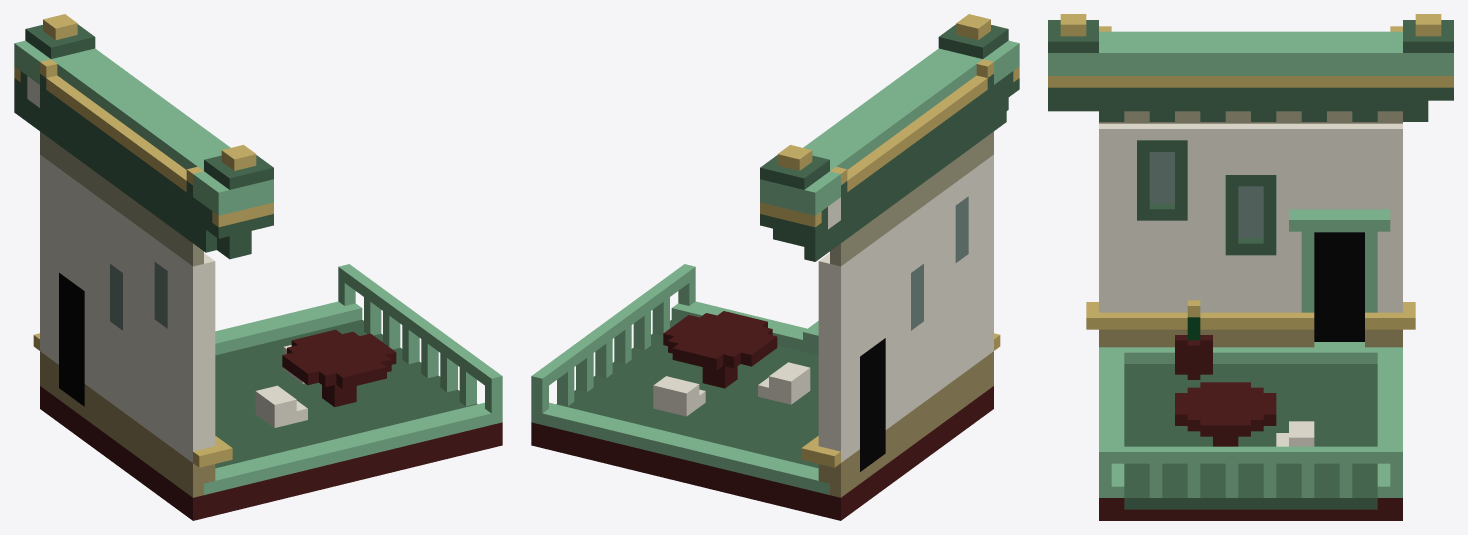
File: tile_3_left_fancy.obj
3 renders of one model, left to right at view 1: azimuth 30°, elevation 25°; view 2: azimuth 150°, elevation 25°; view 3: azimuth 270°, elevation 25°, orthographic.
Bounding box in the file's own units: 2.8 × 3.2 × 3.2.
